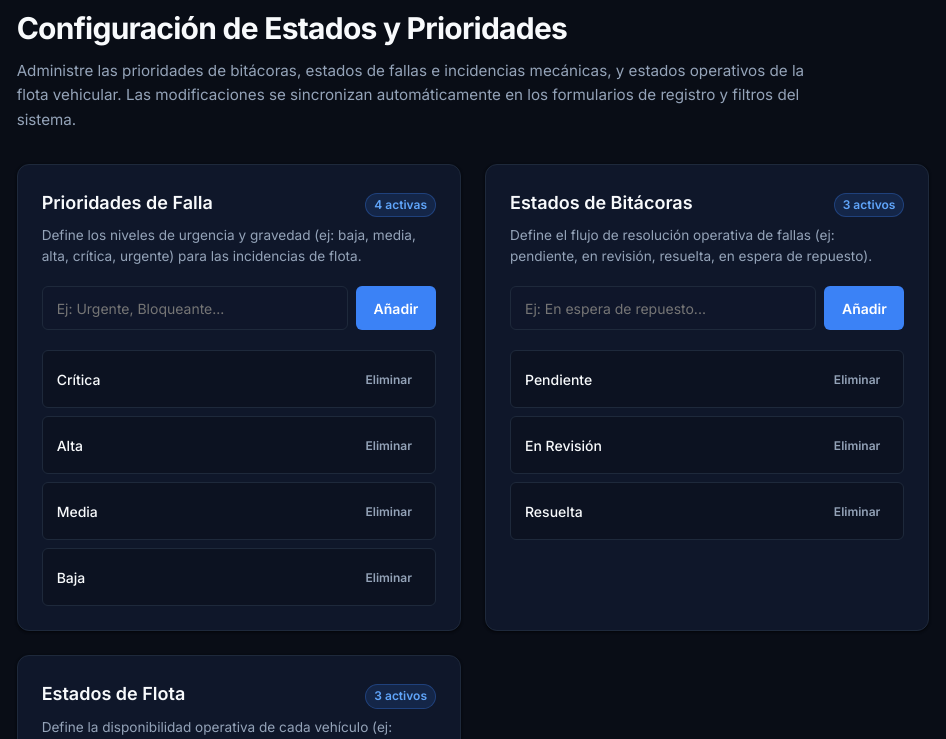
ConfiguracionCatalogosPage › permite añadir una nueva prioridad personalizada y la muestra en la lista
The width and height of the screenshot is (946, 739).
Type "Urgente" into the field named "Nombre de nueva prioridad". click: (195, 308)
box: [42,286,348,330]
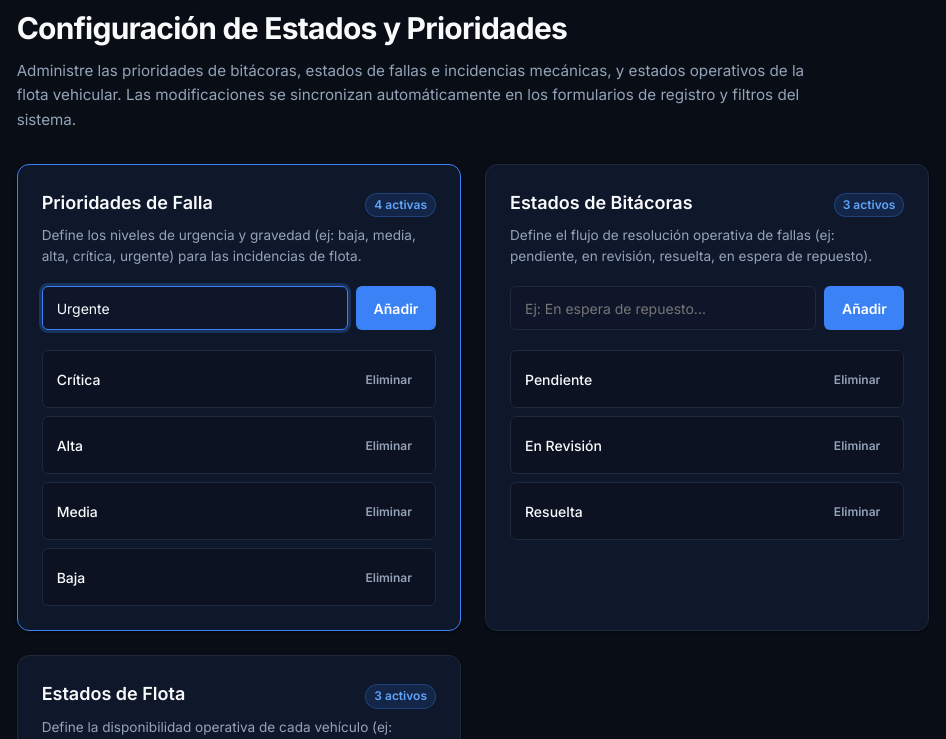
Click the button "Añadir" below "Prioridades de Falla". click: (396, 308)
box: [356,286,436,330]
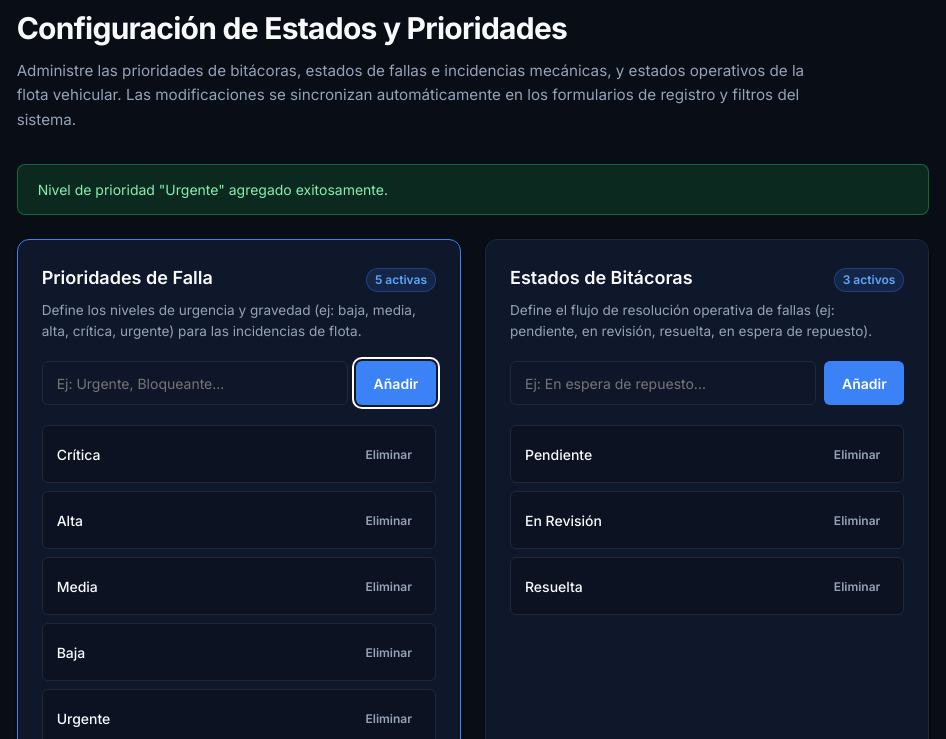
Expected: the text "urgente" is shown, [57,708,110,729]
Expected: the text "Nivel de prioridad \"Urgente\" agregado exitosamente." is shown, [17,164,929,215]
